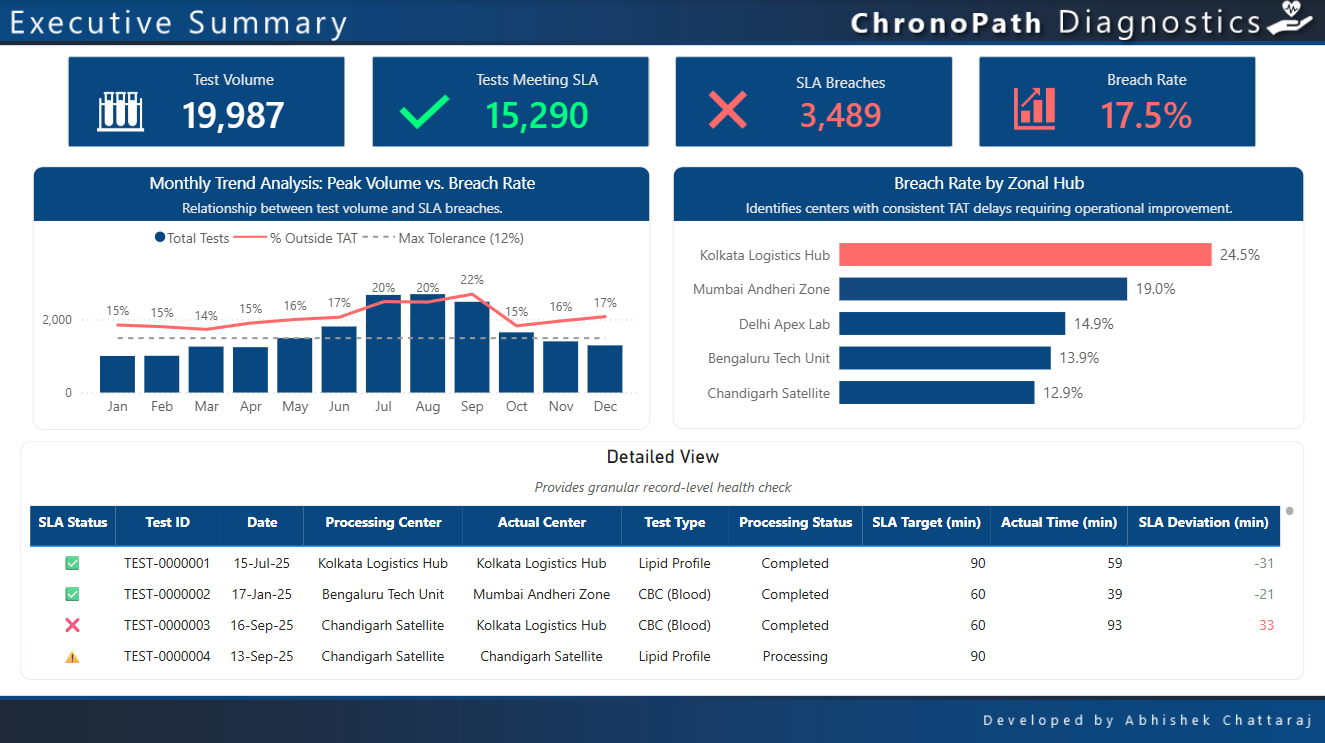

This screenshot's page, from the dashboard's own definition file:
{"tool":"powerbi","page":{"name":"Executive Summary","canvas":[1280,720],"ordinal":1},"visuals":[{"type":"cardVisual","fields":{"Data":["_Measures.Total_Tests","_Measures.Tests_Under_Tat","_Measures.Tests_Outside_Tat","_Measures.% Outside TAT"]},"box":[50,37.5,1181.2,122.5],"z":0},{"type":"barChart","title":"Breach Rate by Zonal Hub","fields":{"Category":["Dim_Actual_Center.Center_Name"],"Y":["_Measures.Center Out-TAT%"]},"box":[650.3,160.5,609.3,253.4],"z":1000},{"type":"tableEx","title":"Detailed View","fields":{"Values":["Fact_Test_Performance.TAT_Icon_Column","Fact_Test_Performance.Test_ID","Fact_Test_Performance.Test_Date","Dim_Processing_Center.Center_Name","Dim_Actual_Center.Center_Name","Dim_TestType.TestType_Name","Dim_Status.Status_Name","Sum(Fact_Test_Performance.Expected_TAT_Minutes)","Sum(Fact_Test_Performance.Total_TAT_Minutes)","Sum(Fact_Test_Performance.SLA Deviation (min))"]},"box":[20,425.9,1239,230.4],"z":2000},{"type":"lineStackedColumnComboChart","title":"Monthly Trend Analysis: Peak Volume vs. Breach Rate","fields":{"Category":["Dim_Date.Year","Dim_Date.Quarter","Dim_Date.Month_Name"],"Y":["_Measures.Total Tests"],"Y2":["_Measures.% Outside TAT","_Measures.Target_Line"]},"box":[32.6,160.5,596,254.6],"z":3000}]}

Visuals, with their boxes in screenshot pixels (x1, y1, x2, y2), scaled from the page's 1280x720 canvas onto the 1325x743 screenshot:
cardVisual - _Measures.Total_Tests x _Measures.Tests_Under_Tat: 52 39 1274 165
"Breach Rate by Zonal Hub" barChart: 673 166 1304 427
"Detailed View" tableEx: 21 440 1303 677
"Monthly Trend Analysis: Peak Volume vs. Breach Rate" lineStackedColumnComboChart: 34 166 651 428
